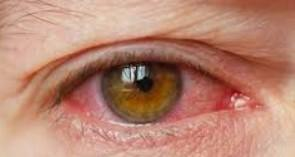eye: (100, 60, 183, 123)
